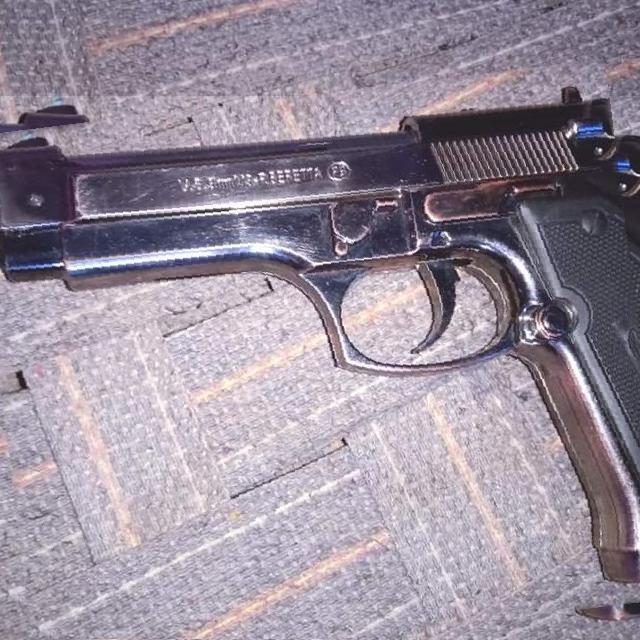rifle: (1, 76, 640, 562)
